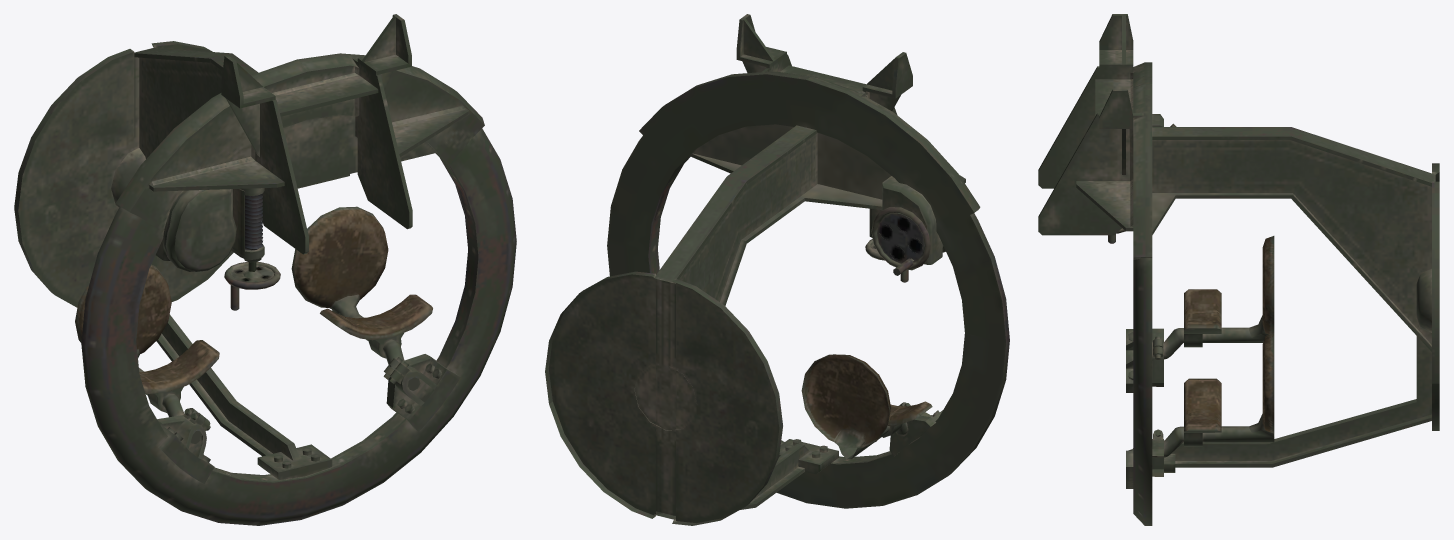
The model's file is Turret_01.glb.
3 views of the same model, side by side, from view 1: azimuth 30°, elevation 25°; view 2: azimuth 150°, elevation 25°; view 3: azimuth 270°, elevation 25° (orthographic). The views are drawn at different scales.
Visible parts, largest first — view 1: set_0_group_0; view 2: set_0_group_0; view 3: set_0_group_0.
Boxes of the visible parts, x1,y1,x2,y2 form: set_0_group_0: [14, 14, 516, 525]; set_0_group_0: [545, 14, 1009, 525]; set_0_group_0: [1038, 14, 1439, 525].
Size of the model in its own units: 1.2 by 1.31 by 1.06.
1 material, 1 textured.
